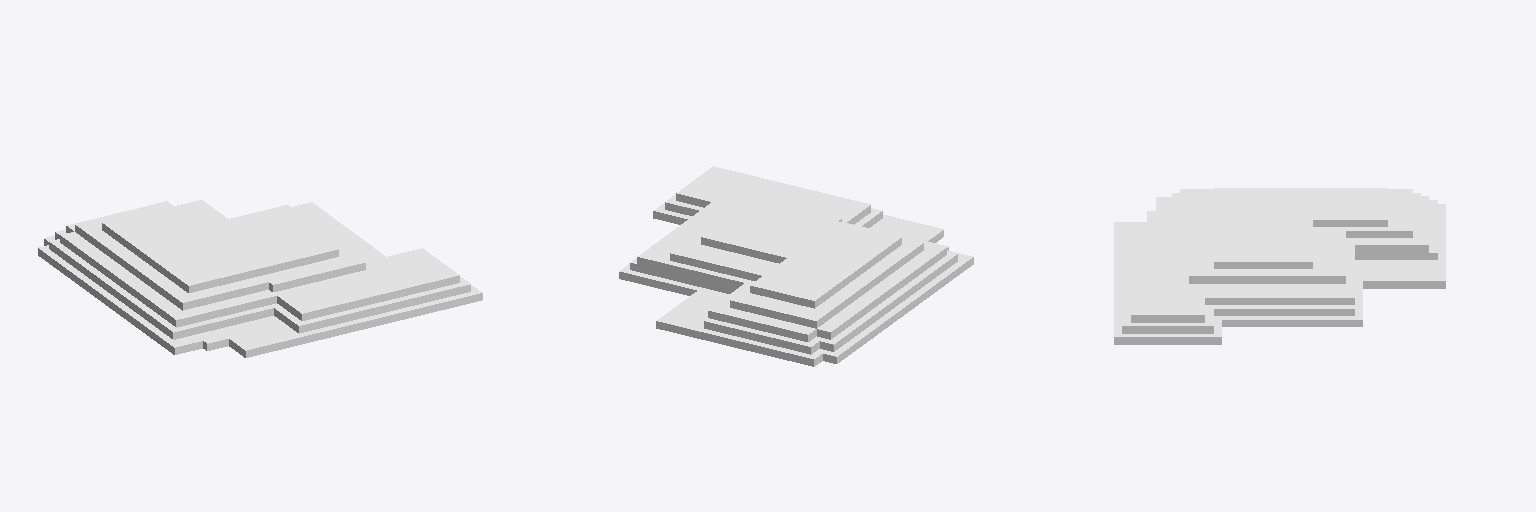
The model's file is gorka1.obj.
3 renders of one model, left to right at view 1: azimuth 30°, elevation 25°; view 2: azimuth 150°, elevation 25°; view 3: azimuth 270°, elevation 25°, orthographic.
Parts seen in each view (by area): view 1: object 1; view 2: object 1; view 3: object 1.
Part boxes in pixels (x1,y1,x2,y2): object 1: (38,200,482,357); object 1: (619,166,973,366); object 1: (1114,188,1445,344).
Bounding box in the file's own units: 4 × 0.5 × 4.